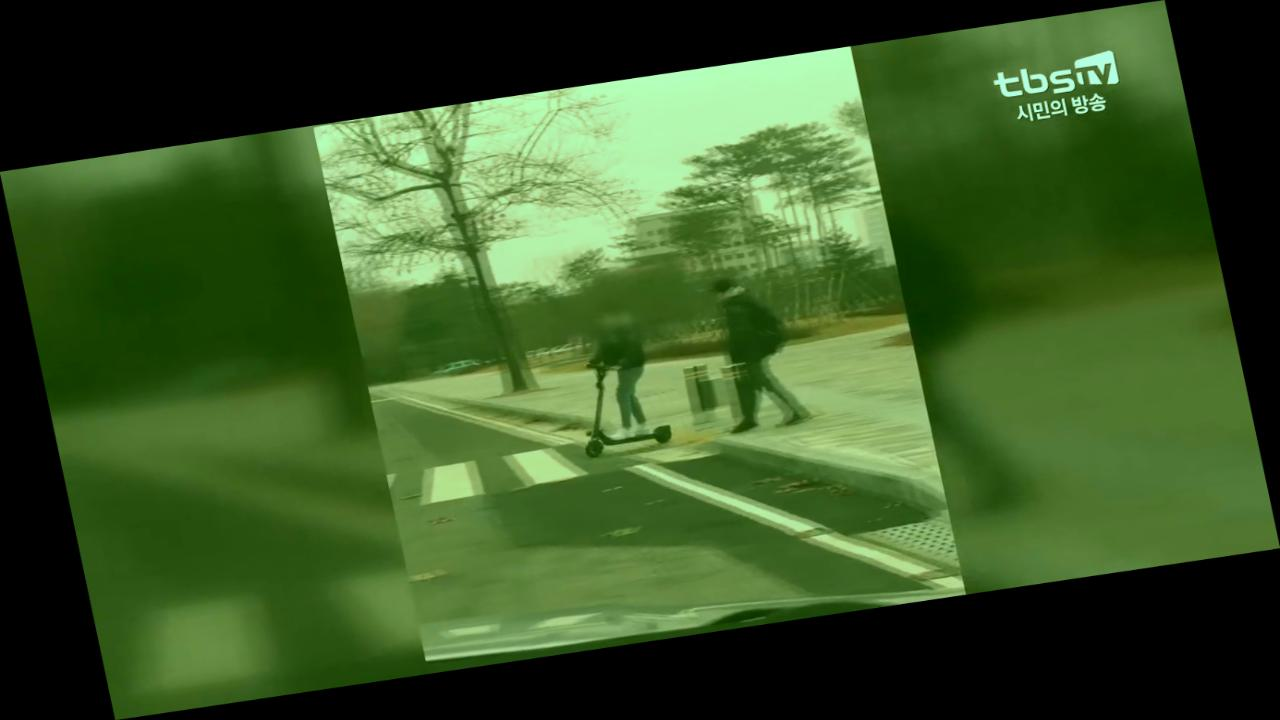nonhelmet: (554, 297, 682, 461)
